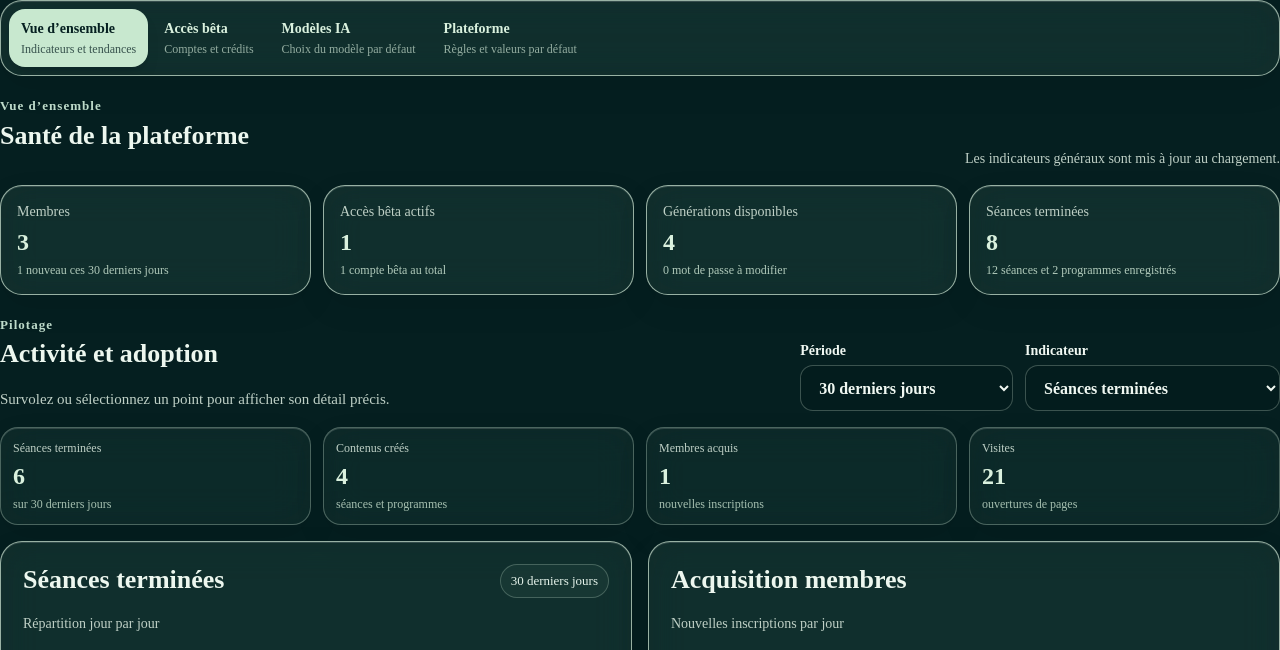
Test: BetaAdminPanel › organise l’administration en sous-menus et filtre les graphiques
Select "7 derniers jours" in the dropdown named "Période des graphiques" at (907, 388), box [800,365,1013,411]
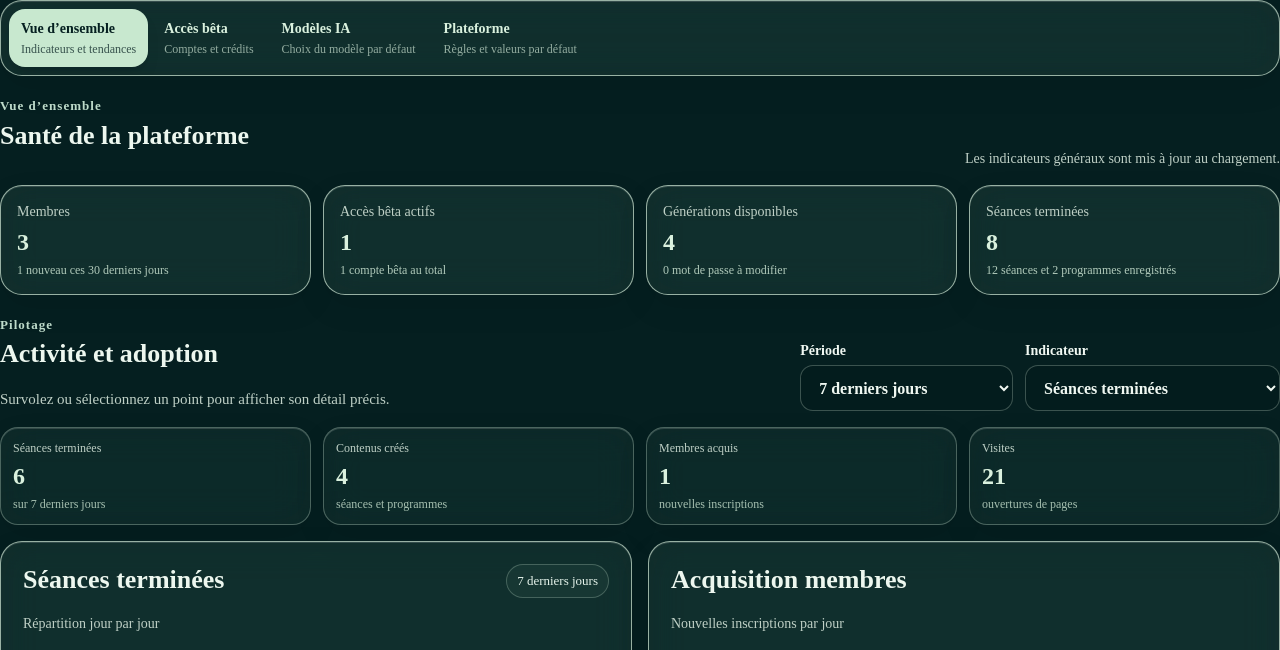
Select "Nouveaux membres" in the dropdown named "Indicateur du graphique" at (1152, 388), box [1025,365,1279,411]
(page scrolled)
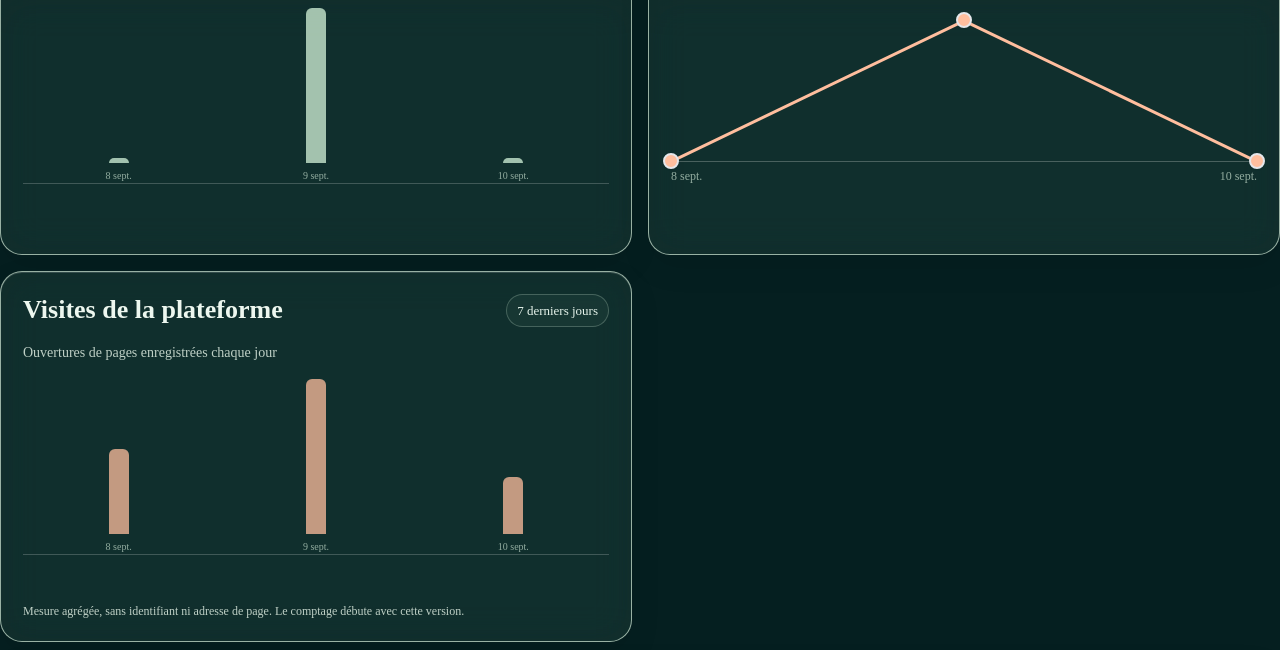
Expected: the heading "Visites de la plateforme" is shown, [23,294,283,325]
Hover over the button "8 sept." below "Visites de la plateforme" at (119, 456), box [23,379,214,534]
(page scrolled)
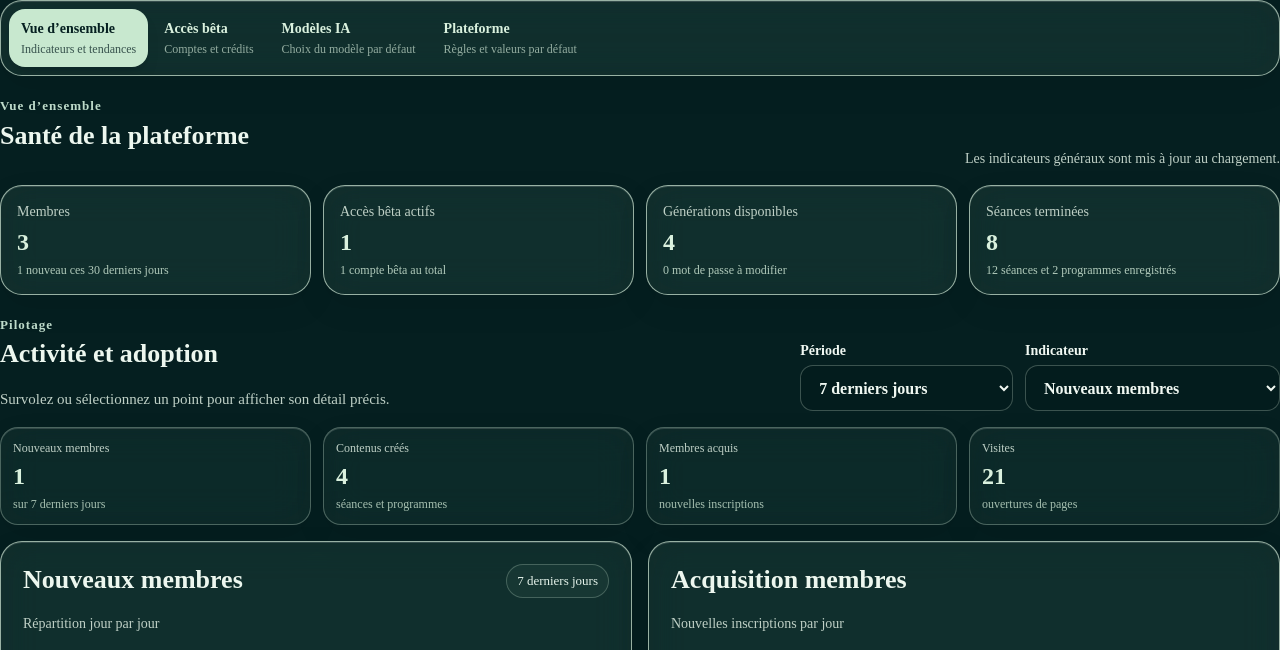
Click the tab "Plateforme Règles et valeurs par défaut" at (510, 38), box [432,9,589,67]
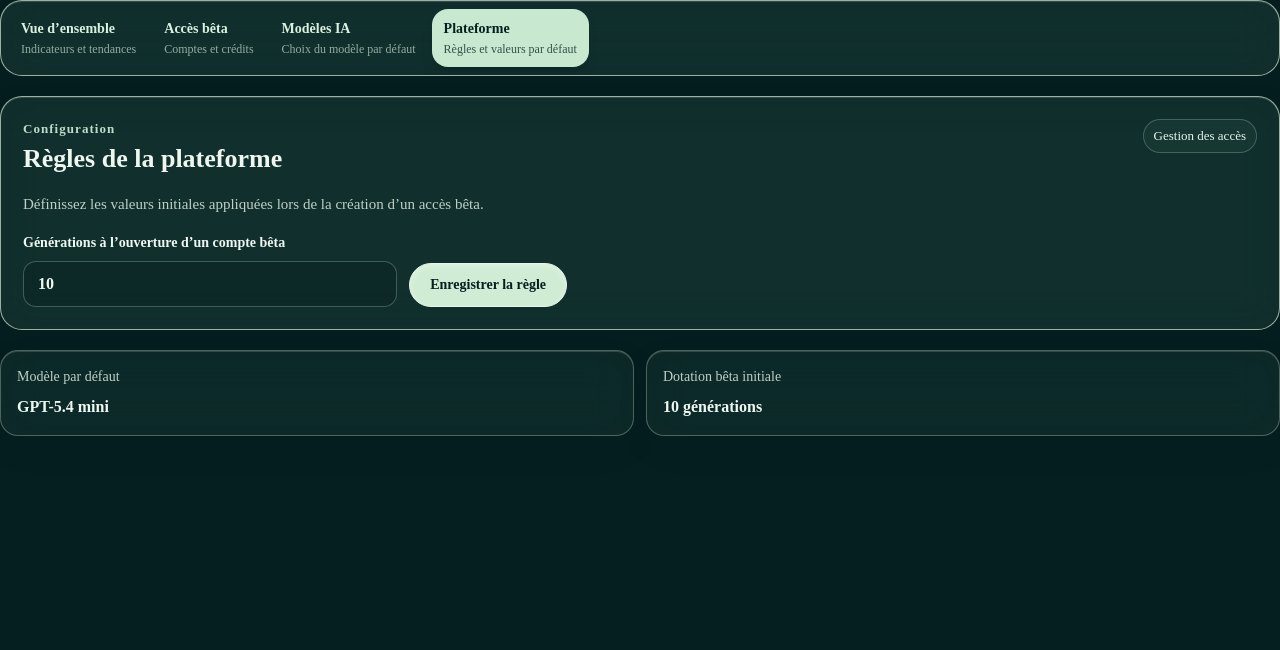
Expected: the panel "plateforme" is shown, [0,96,1279,436]
Expected: the number field labelled "Générations à l’ouverture d’un compte bêta" is shown, [23,261,397,307]
